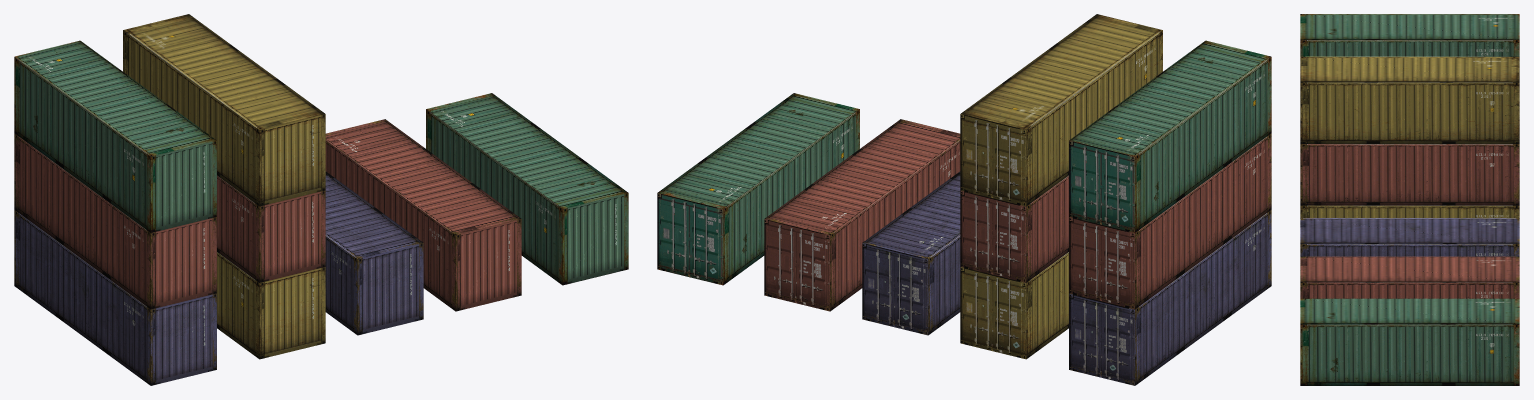
File: Containers.FBX
The picture shows the model from 3 angles, left to right: view 1: azimuth 30°, elevation 25°; view 2: azimuth 150°, elevation 25°; view 3: azimuth 270°, elevation 25°; orthographic projection. The views are drawn at different scales.
Visible parts, largest first — view 1: Container005, Container004, Container01, Container002, Container003; view 2: Container005, Container004, Container01, Container002, Container003; view 3: Container004, Container01, Container002, Container005, Container003.
Boxes of the visible parts, <box> form: Container005: <box>14,40,216,385</box>; Container004: <box>123,14,325,359</box>; Container01: <box>426,93,628,285</box>; Container002: <box>325,119,521,311</box>; Container003: <box>325,171,423,335</box>; Container005: <box>1069,40,1271,385</box>; Container004: <box>960,14,1162,359</box>; Container01: <box>657,93,859,285</box>; Container002: <box>764,119,960,311</box>; Container003: <box>862,171,960,335</box>; Container004: <box>1300,56,1519,217</box>; Container01: <box>1300,298,1519,385</box>; Container002: <box>1300,256,1519,298</box>; Container005: <box>1300,14,1519,56</box>; Container003: <box>1300,218,1519,256</box>.
Bounding box in the file's own units: 8445 × 3875 × 4179.
